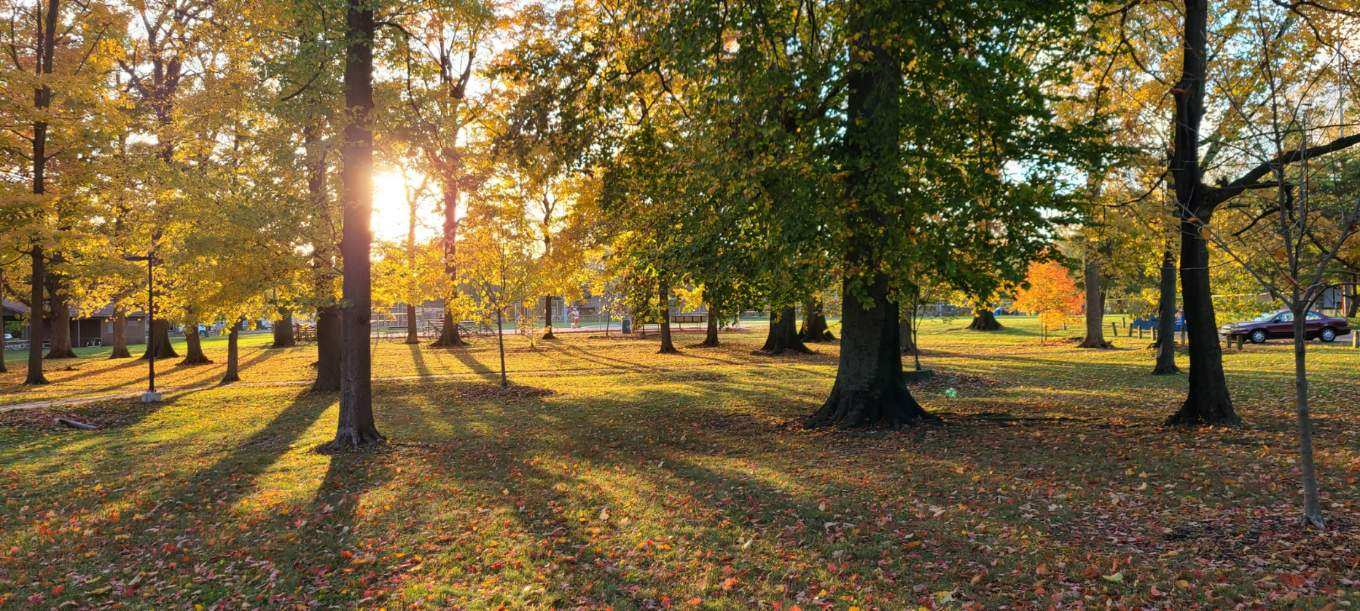tree: (1225, 79, 1347, 541), (824, 1, 935, 425), (1159, 1, 1252, 427), (336, 1, 388, 446), (631, 61, 681, 357), (760, 47, 807, 355), (1072, 47, 1119, 351), (103, 38, 139, 365), (801, 31, 837, 345), (144, 6, 176, 357), (181, 1, 211, 366), (965, 43, 1001, 333), (439, 1, 468, 350), (23, 1, 49, 382), (316, 31, 341, 389), (263, 113, 301, 346), (480, 233, 532, 395), (1148, 126, 1181, 375), (399, 69, 423, 349), (536, 123, 561, 341), (224, 150, 245, 385), (704, 143, 724, 353)
